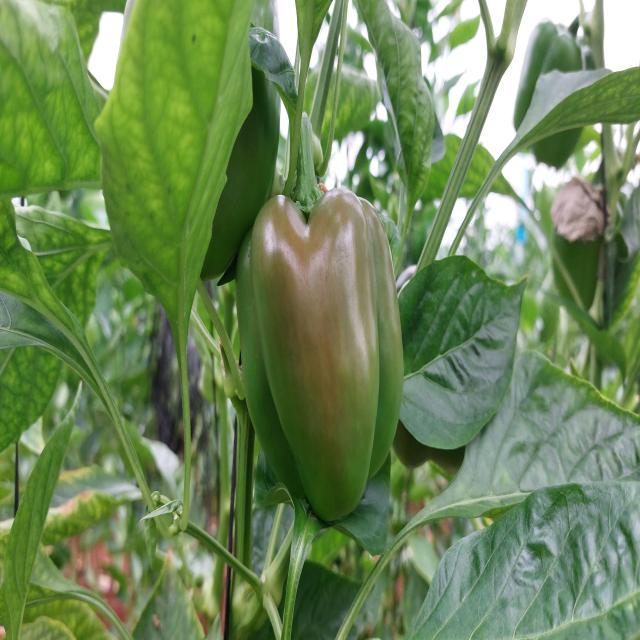BrownishRed--Can-be-Harvested: (237, 196, 414, 524)
